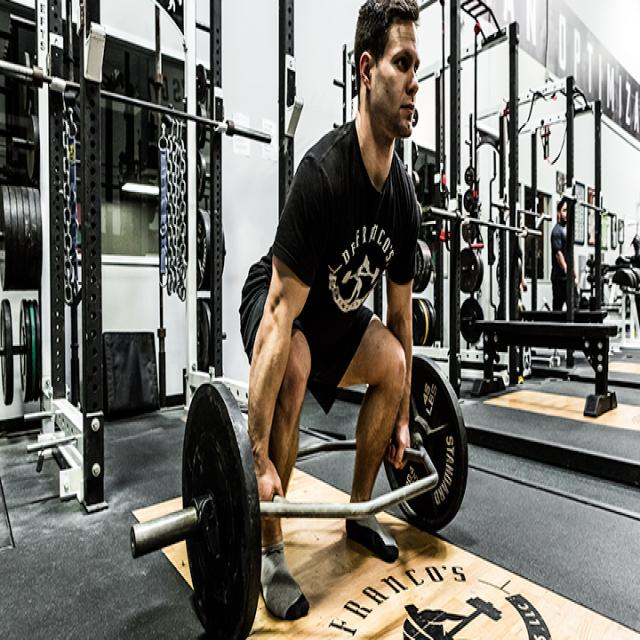deadlift: (124, 0, 476, 640)
